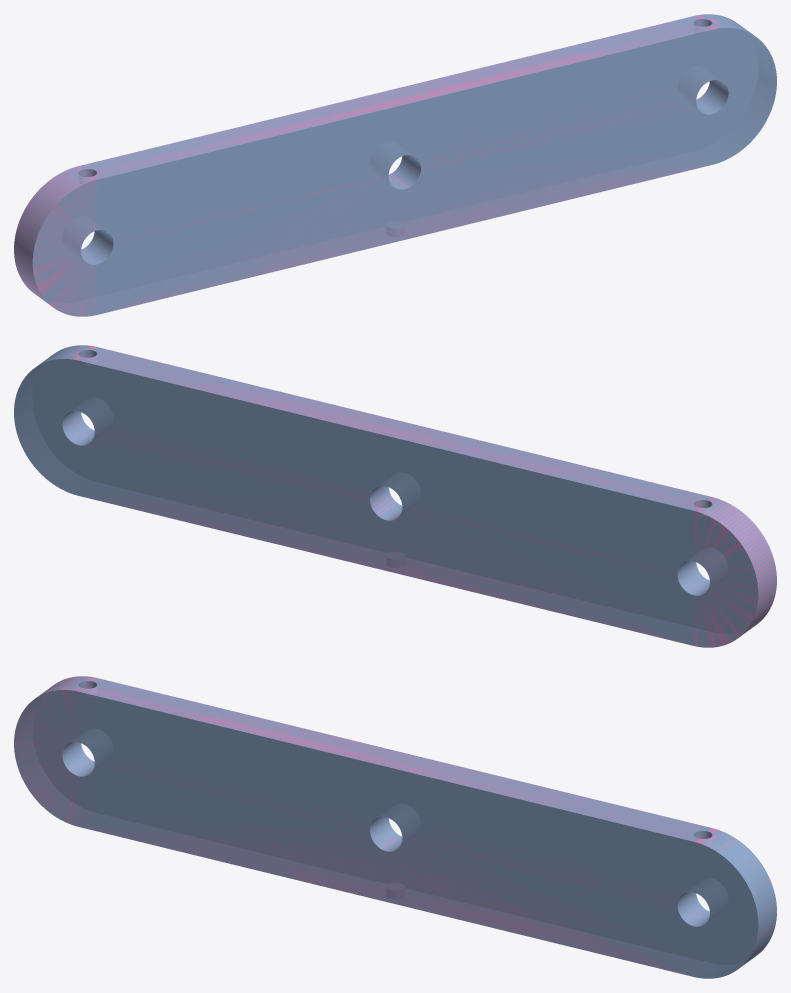
The model's file is overlay.glb.
3 renders of one model, top to bottom at view 1: azimuth 30°, elevation 25°; view 2: azimuth 150°, elevation 25°; view 3: azimuth 330°, elevation 25°, orthographic.
Visible parts, largest first — view 1: LinuxCandidate, SolidWorksReference; view 2: LinuxCandidate, SolidWorksReference; view 3: LinuxCandidate, SolidWorksReference.
Boxes of the visible parts, x1,y1,x2,y2 form: LinuxCandidate: (14,14,776,316); SolidWorksReference: (14,14,776,316); LinuxCandidate: (14,345,776,647); SolidWorksReference: (14,345,776,647); LinuxCandidate: (14,676,776,978); SolidWorksReference: (14,676,776,978).
Bounding box in the file's own units: 46.08 × 8 × 2.
